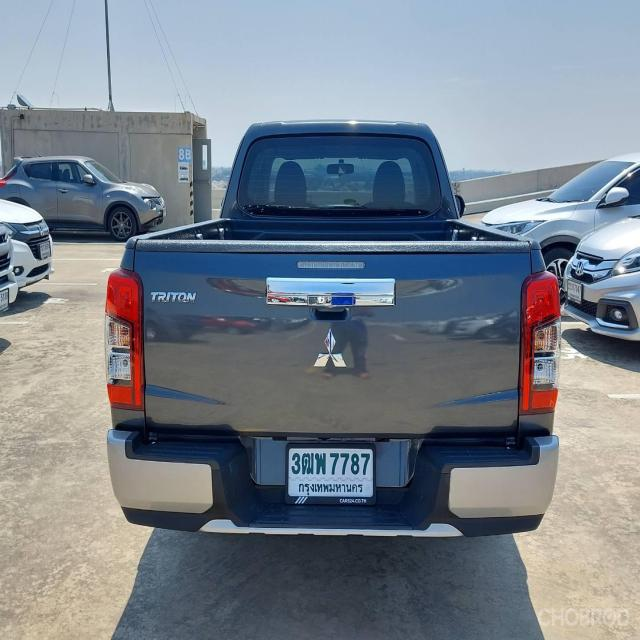license_plate: (286, 438, 376, 505), (565, 276, 583, 306), (38, 237, 52, 264)
